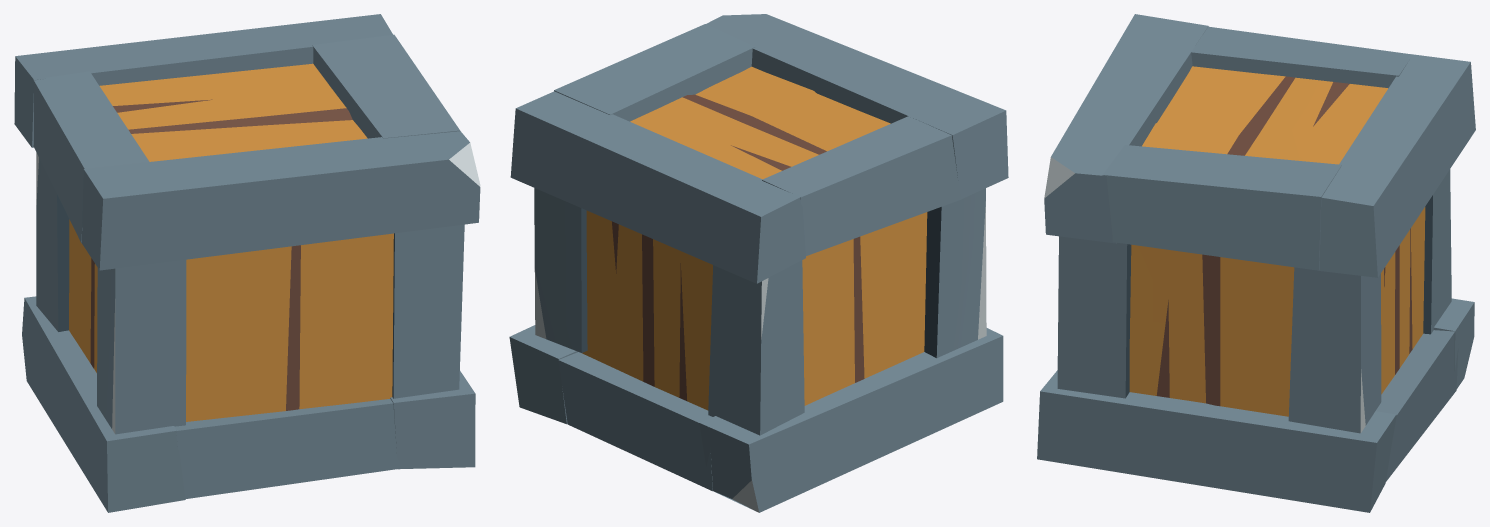
The model's file is crate-by-nick-slough-gNmAFsPZQp.glb.
3 views of the same model, side by side, from view 1: azimuth 30°, elevation 25°; view 2: azimuth 150°, elevation 25°; view 3: azimuth 270°, elevation 25° (orthographic). The views are drawn at different scales.
Visible parts, largest first — view 1: Crate; view 2: Crate; view 3: Crate.
Part boxes in pixels (<box>): Crate: <box>14,14,480,512</box>; Crate: <box>509,14,1008,512</box>; Crate: <box>1037,14,1475,512</box>.
Size of the model in its own units: 0.6695 by 0.5152 by 0.6489.
